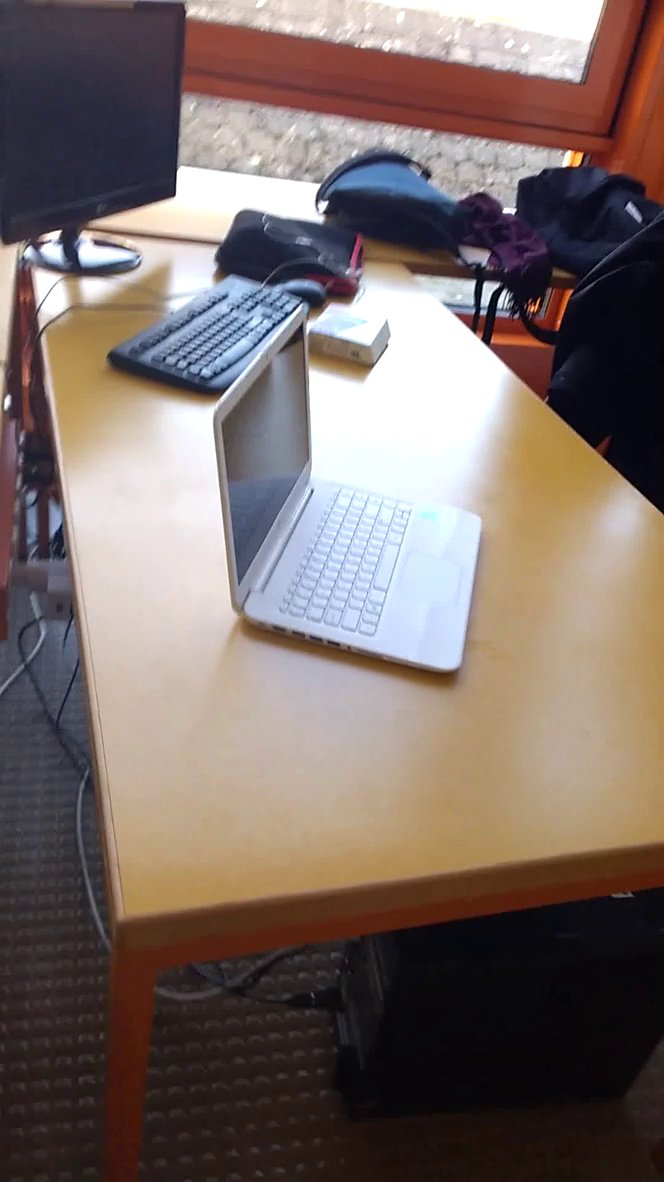bag: (299, 136, 475, 268), (504, 153, 664, 261)
laptop: (204, 292, 499, 691)
